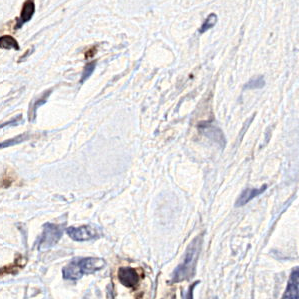Lymphocyte: (20, 1, 35, 23)
